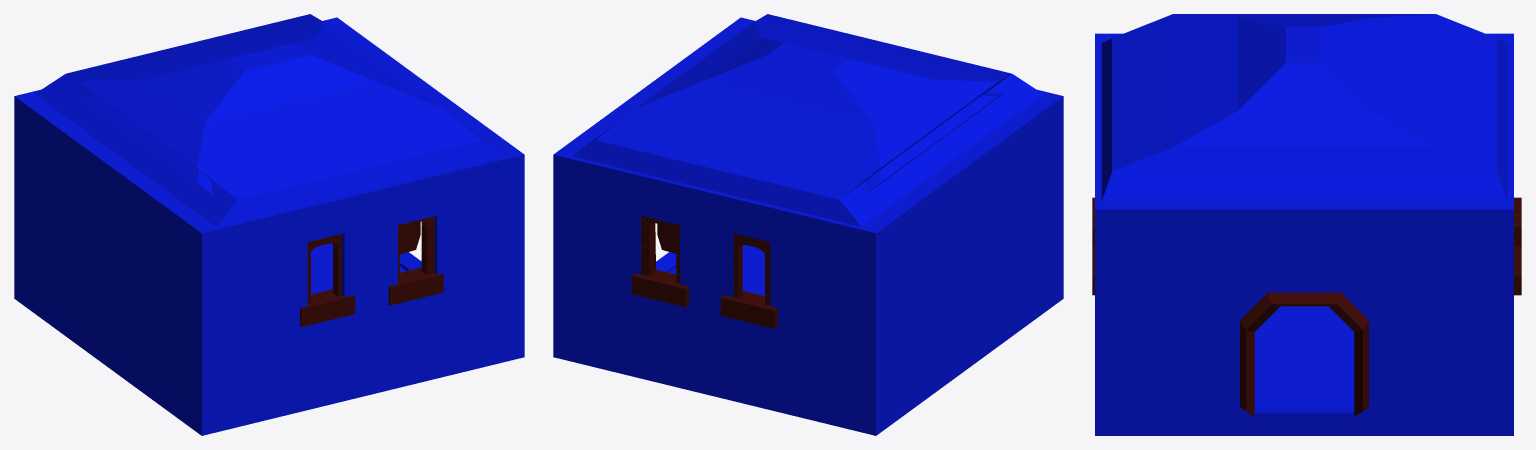
The model's file is classroomBase2.fbx.
3 renders of one model, left to right at view 1: azimuth 30°, elevation 25°; view 2: azimuth 150°, elevation 25°; view 3: azimuth 270°, elevation 25°, orthographic. The views are drawn at different scales.
Visible parts, largest first — view 1: Cube, Cube.003, Cube.004; view 2: Cube, Cube.001, Cube.002; view 3: Cube.
Part boxes in pixels (x1=…): Cube: x1=14, y1=14, x2=524, y2=435; Cube.003: x1=300, y1=234, x2=355, y2=326; Cube.004: x1=388, y1=216, x2=443, y2=305; Cube: x1=553, y1=14, x2=1063, y2=435; Cube.001: x1=720, y1=233, x2=777, y2=328; Cube.002: x1=632, y1=216, x2=689, y2=306; Cube: x1=1095, y1=14, x2=1513, y2=435.
Bounding box in the file's own units: 6426 × 4919 × 6314.
